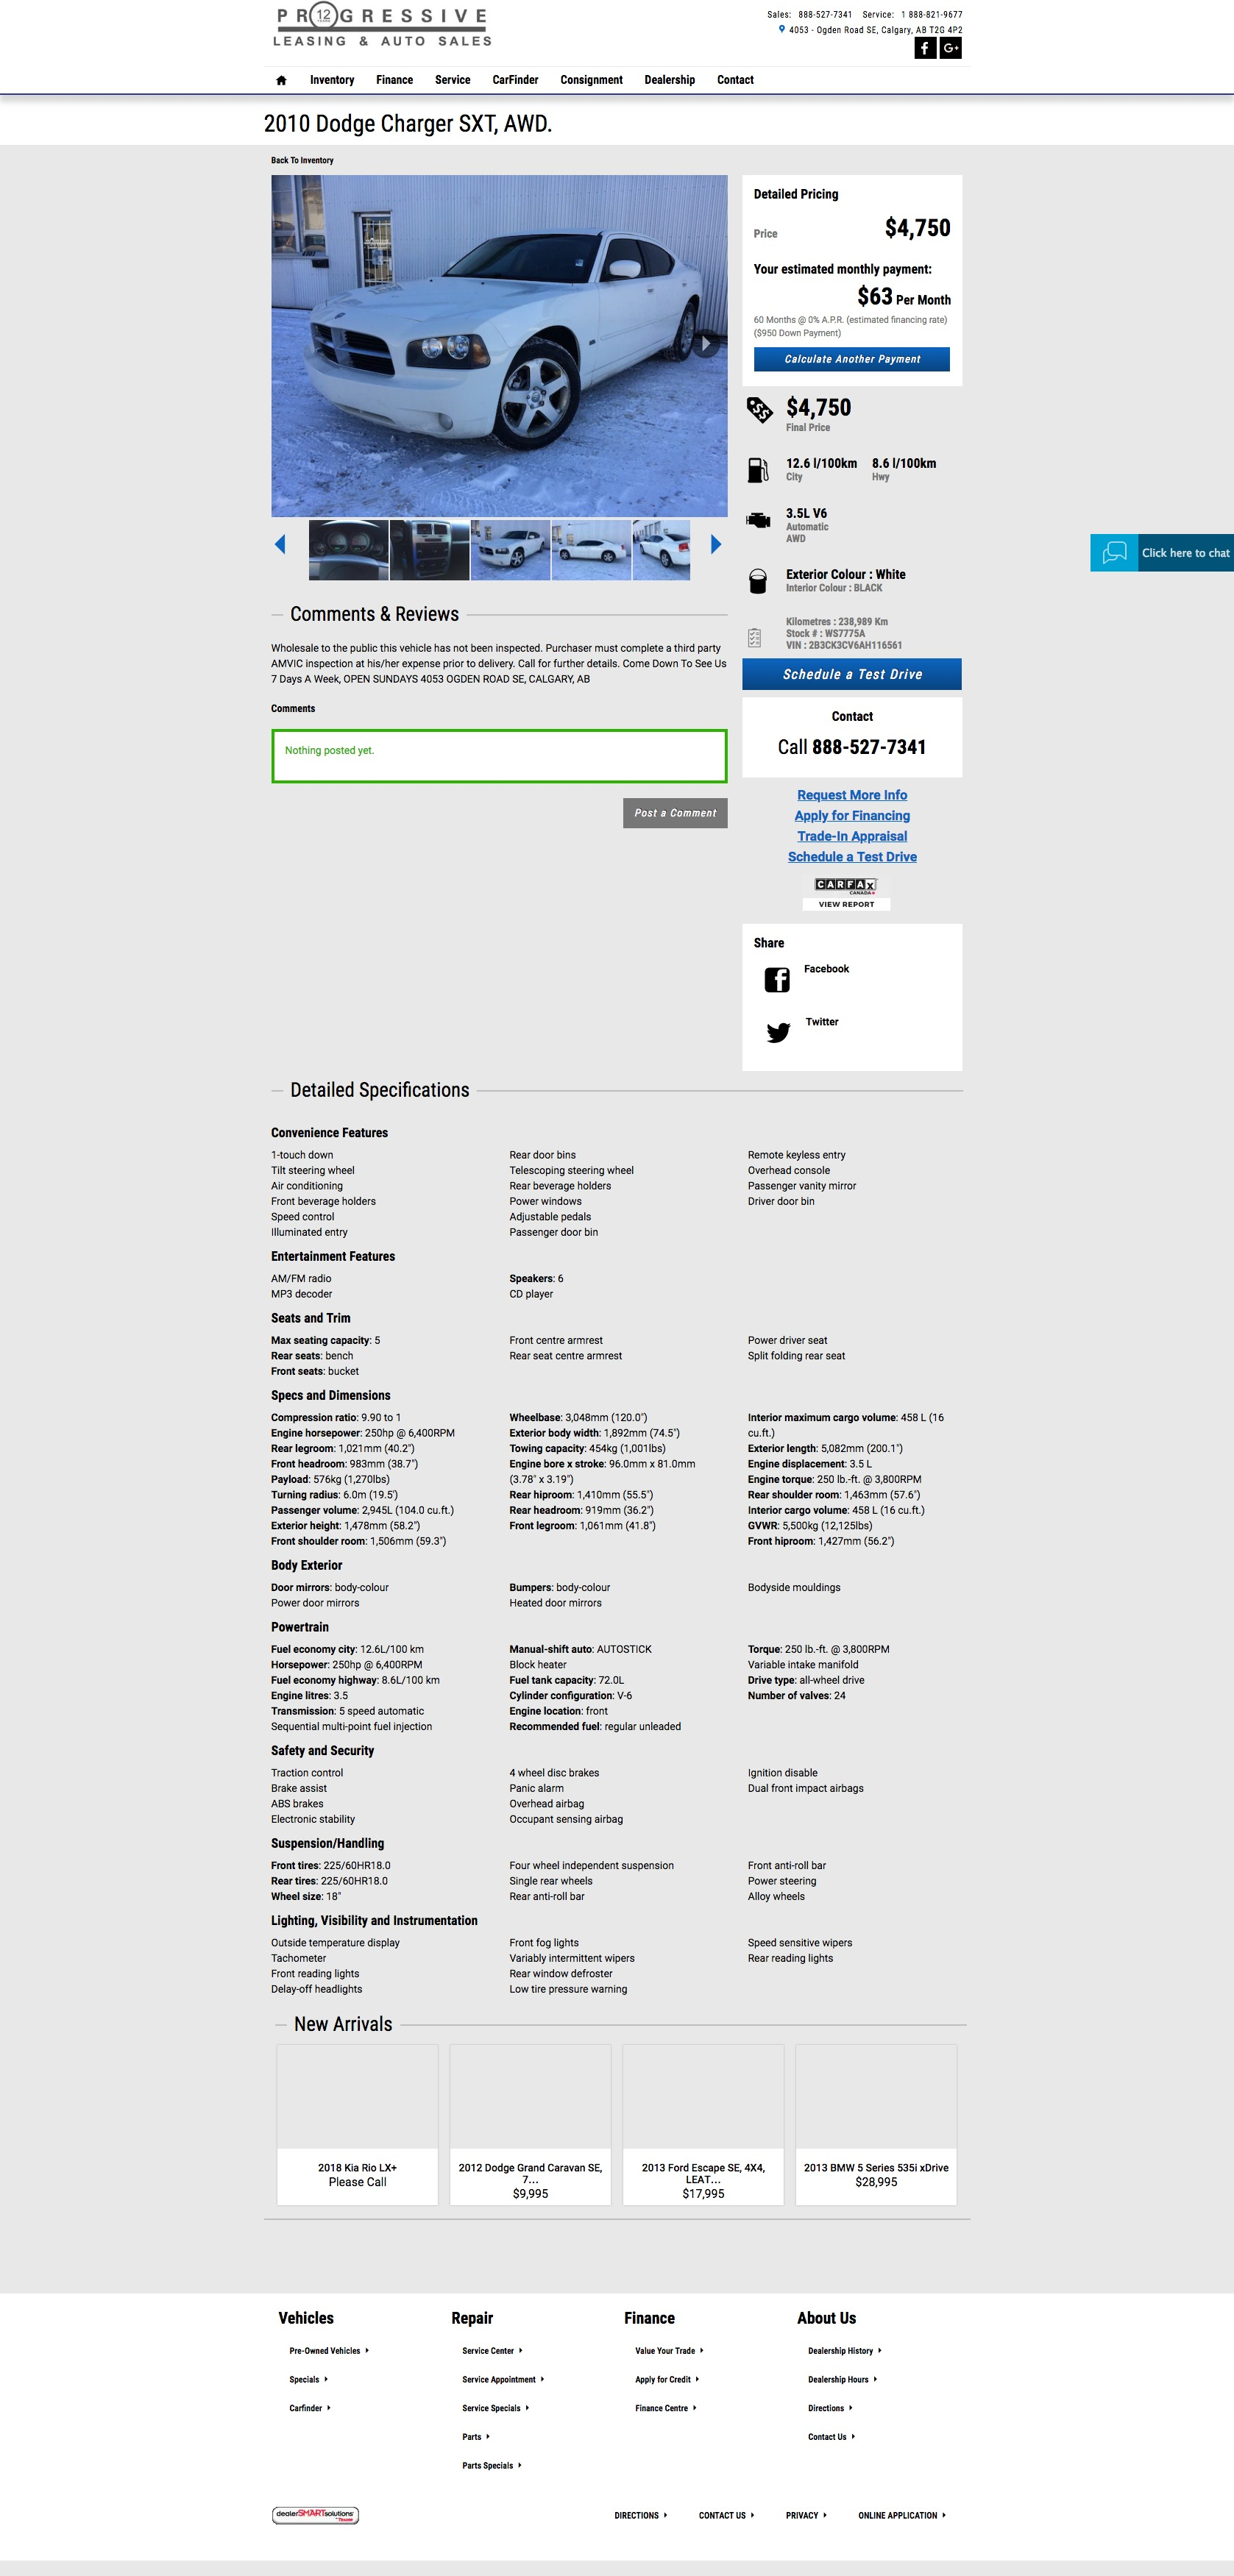car: (710, 536, 723, 555)
